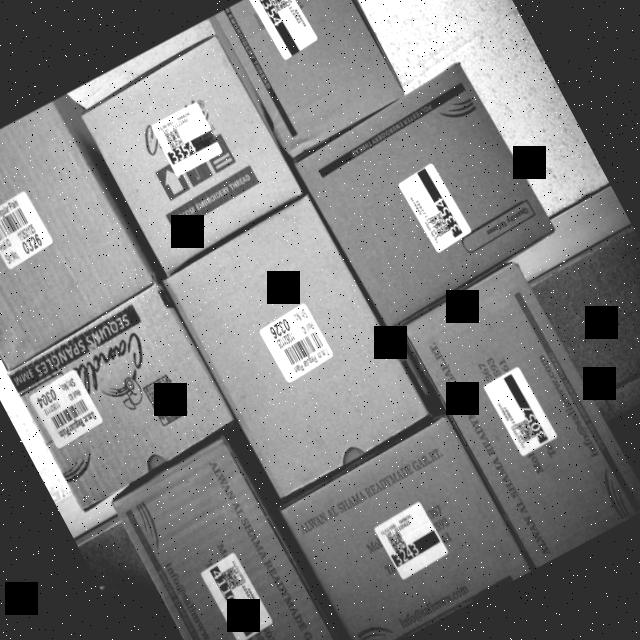box: (159, 198, 427, 500), (401, 259, 640, 568), (291, 58, 557, 331), (281, 419, 529, 640), (8, 287, 240, 514), (77, 38, 300, 268), (109, 436, 347, 640), (0, 95, 162, 369), (215, 0, 403, 153)
